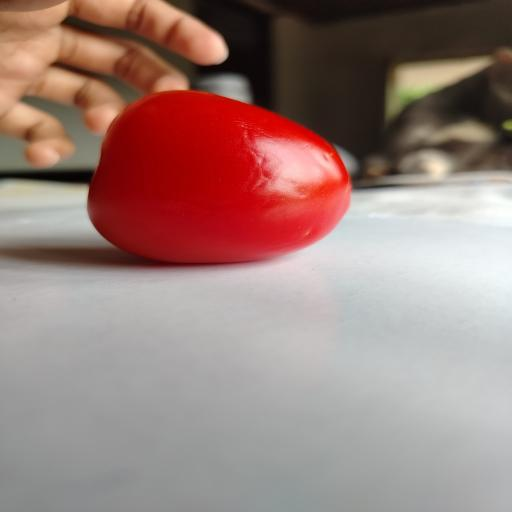ripe: (88, 91, 351, 263)
